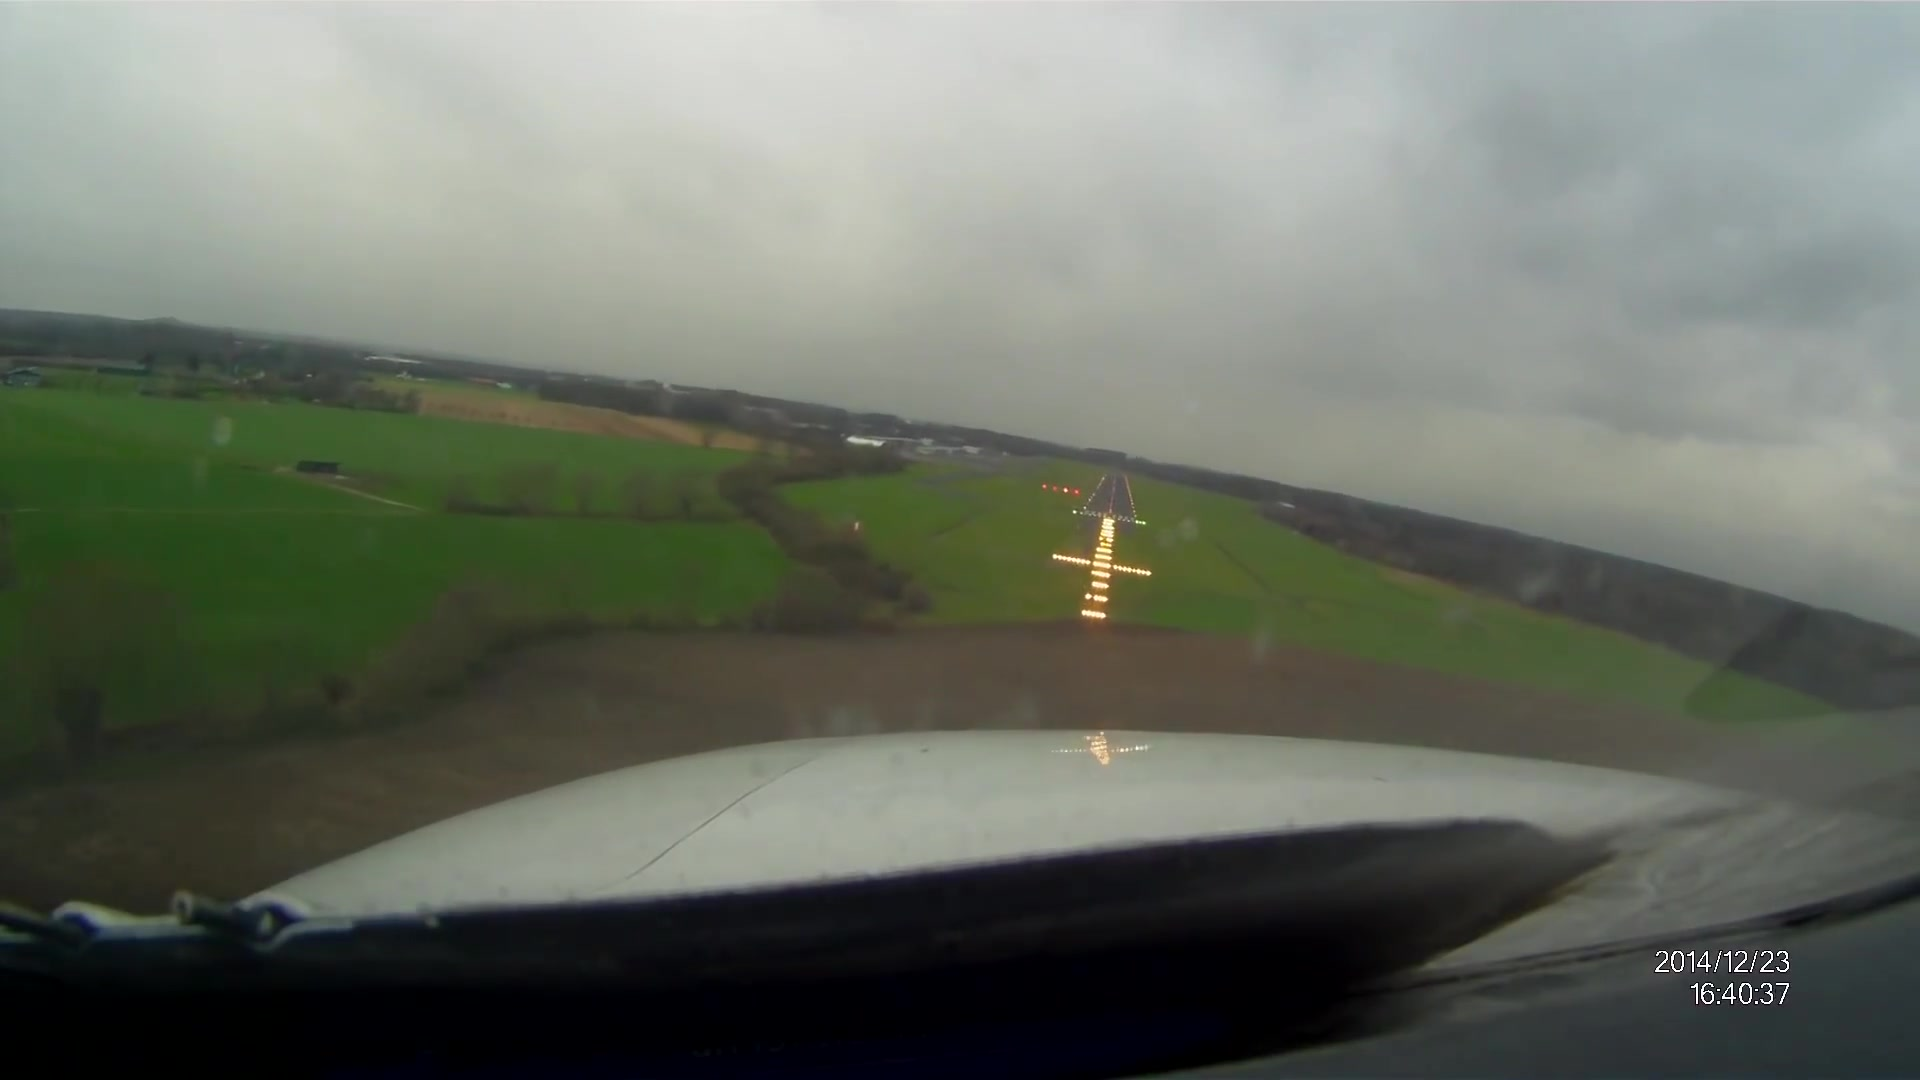entrance: (1085, 508, 1137, 524)
runway: (1079, 472, 1142, 525)
